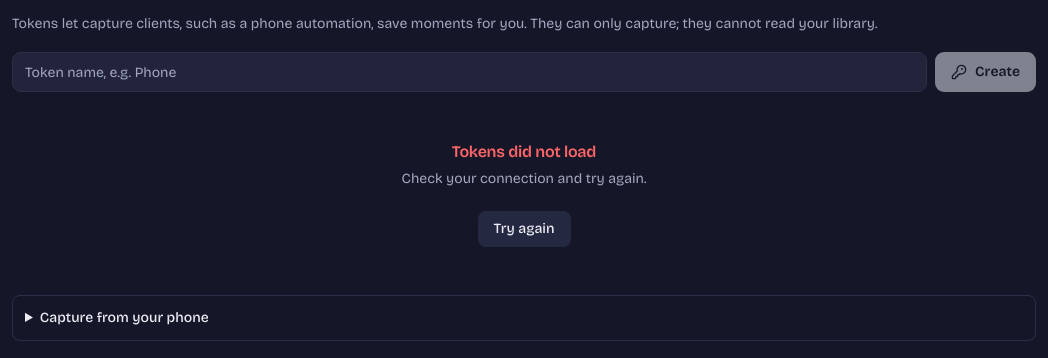
it: tells failed loading apart from an empty list and retries
The width and height of the screenshot is (1048, 358).
Click the button "Try again" at (524,229), box [478,211,570,247]
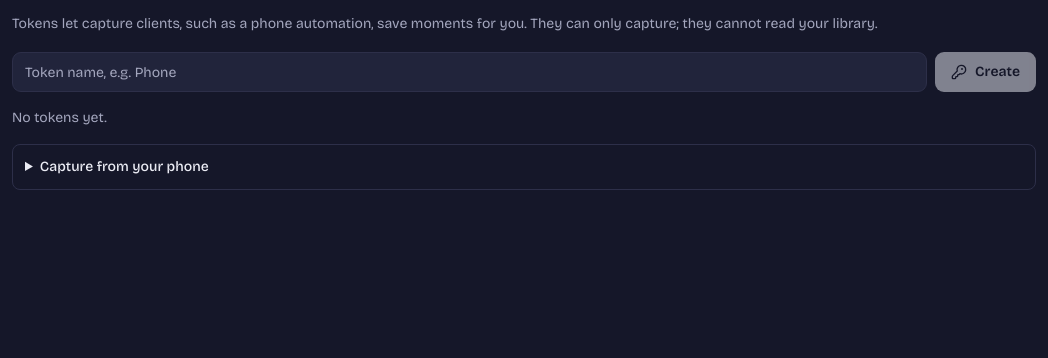
Result: the text "No tokens yet." is shown at [12,109,107,126]
